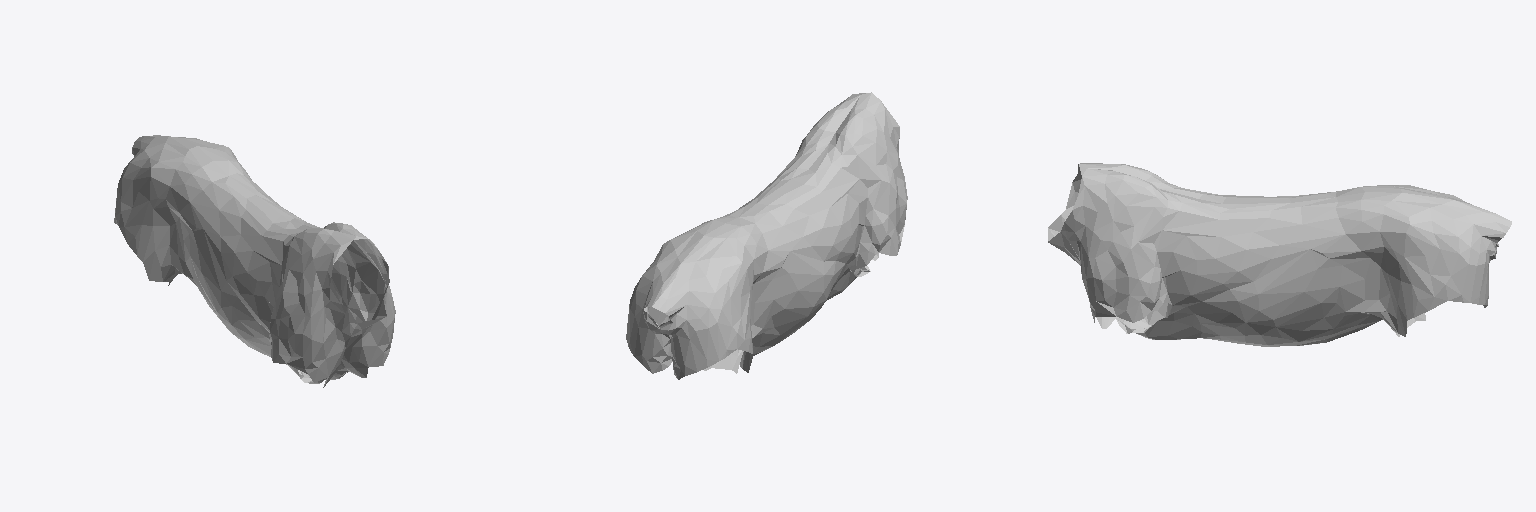
Rendered from l_body.obj.
3 renders of one model, left to right at view 1: azimuth 30°, elevation 25°; view 2: azimuth 150°, elevation 25°; view 3: azimuth 270°, elevation 25°, orthographic.
Visible parts, largest first — view 1: Lioness_Body_Lioness_Body_0.007; view 2: Lioness_Body_Lioness_Body_0.007; view 3: Lioness_Body_Lioness_Body_0.007.
Boxes of the visible parts, x1,y1,x2,y2 form: Lioness_Body_Lioness_Body_0.007: [114, 135, 395, 387]; Lioness_Body_Lioness_Body_0.007: [626, 92, 907, 379]; Lioness_Body_Lioness_Body_0.007: [1048, 163, 1511, 346].
Size of the model in its own units: 1.14 by 1.76 by 4.09.